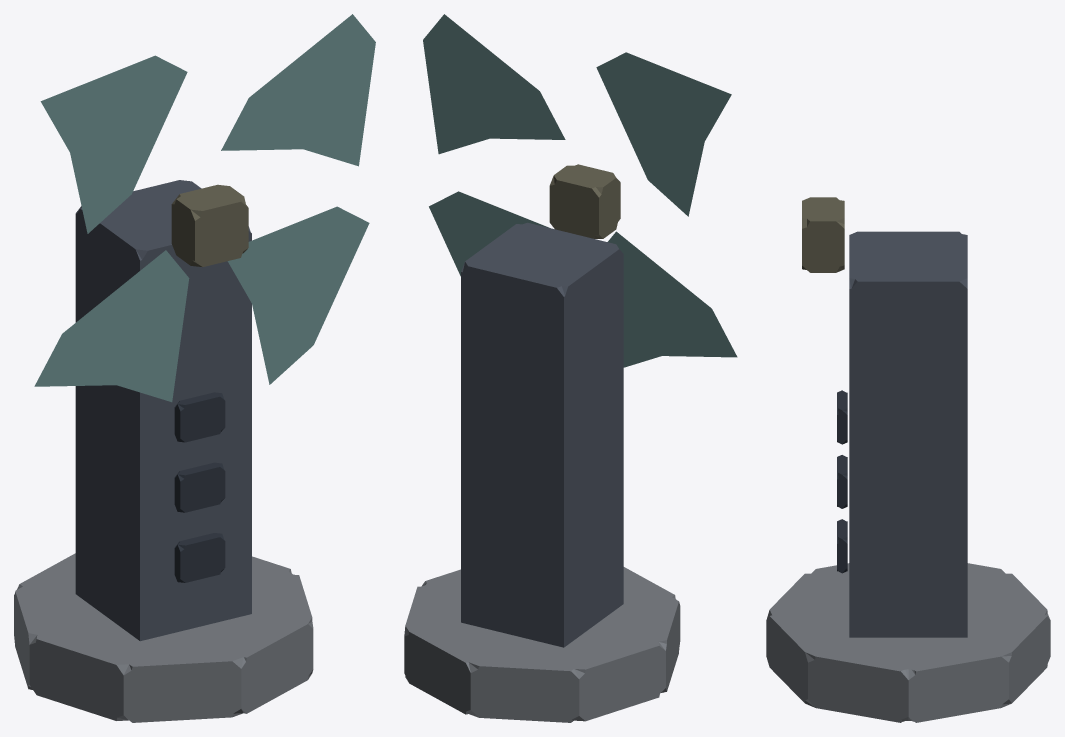
Rendered from wind_charger_visual.glb.
3 renders of one model, left to right at view 1: azimuth 30°, elevation 25°; view 2: azimuth 150°, elevation 25°; view 3: azimuth 270°, elevation 25°, orthographic. The views are drawn at different scales.
Visible parts, largest first — view 1: wind_charger_visual_Static, Sail.002, Sail, Sail.001, Sail.003, RotorHub, Charge_Lens_2, Charge_Lens_1, Charge_Lens_0; view 2: wind_charger_visual_Static, Sail.001, Sail, Sail.002, RotorHub, Sail.003; view 3: wind_charger_visual_Static, RotorHub, Charge_Lens_0, Charge_Lens_2, Charge_Lens_1.
Part boxes in pixels (x1=…): wind_charger_visual_Static: x1=14, y1=180, x2=313, y2=722; Sail.002: x1=34, y1=250, x2=189, y2=402; Sail: x1=221, y1=14, x2=375, y2=166; Sail.001: x1=40, y1=55, x2=187, y2=233; Sail.003: x1=227, y1=206, x2=369, y2=384; RotorHub: x1=171, y1=184, x2=248, y2=267; Charge_Lens_2: x1=174, y1=392, x2=225, y2=442; Charge_Lens_1: x1=174, y1=462, x2=225, y2=512; Charge_Lens_0: x1=174, y1=533, x2=225, y2=582; wind_charger_visual_Static: x1=404, y1=222, x2=680, y2=722; Sail.001: x1=596, y1=52, x2=731, y2=216; Sail: x1=423, y1=14, x2=565, y2=154; Sail.002: x1=608, y1=231, x2=737, y2=367; RotorHub: x1=549, y1=164, x2=620, y2=238; Sail.003: x1=429, y1=191, x2=550, y2=276; wind_charger_visual_Static: x1=766, y1=231, x2=1050, y2=722; RotorHub: x1=802, y1=197, x2=844, y2=272; Charge_Lens_0: x1=837, y1=519, x2=847, y2=573; Charge_Lens_2: x1=837, y1=390, x2=847, y2=444; Charge_Lens_1: x1=837, y1=455, x2=847, y2=508.
Bounding box in the file's own units: 1.53 × 2.76 × 1.2.
